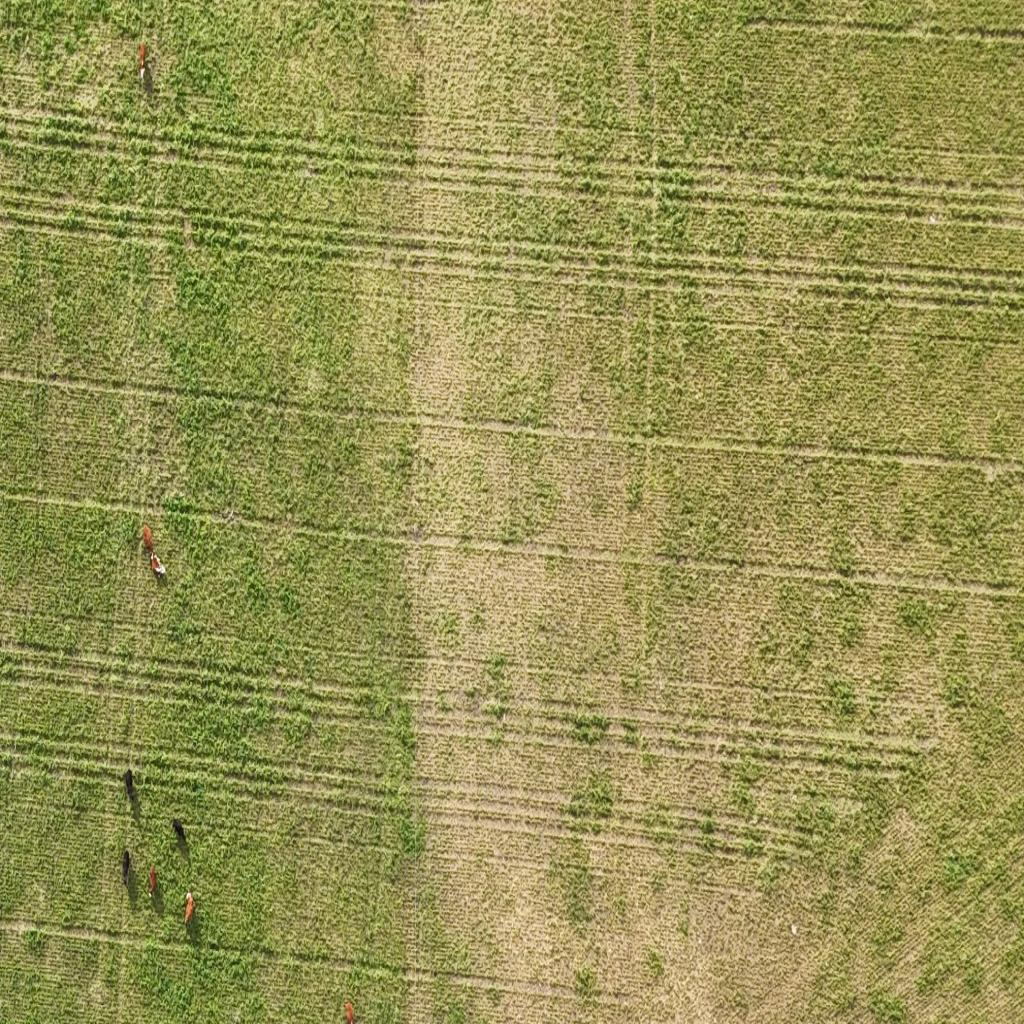cow: (171, 817, 189, 845), (138, 41, 148, 83), (122, 850, 133, 888), (150, 551, 166, 576), (124, 770, 136, 802), (142, 524, 153, 556), (184, 890, 194, 924), (148, 862, 156, 896), (343, 1002, 355, 1024)
